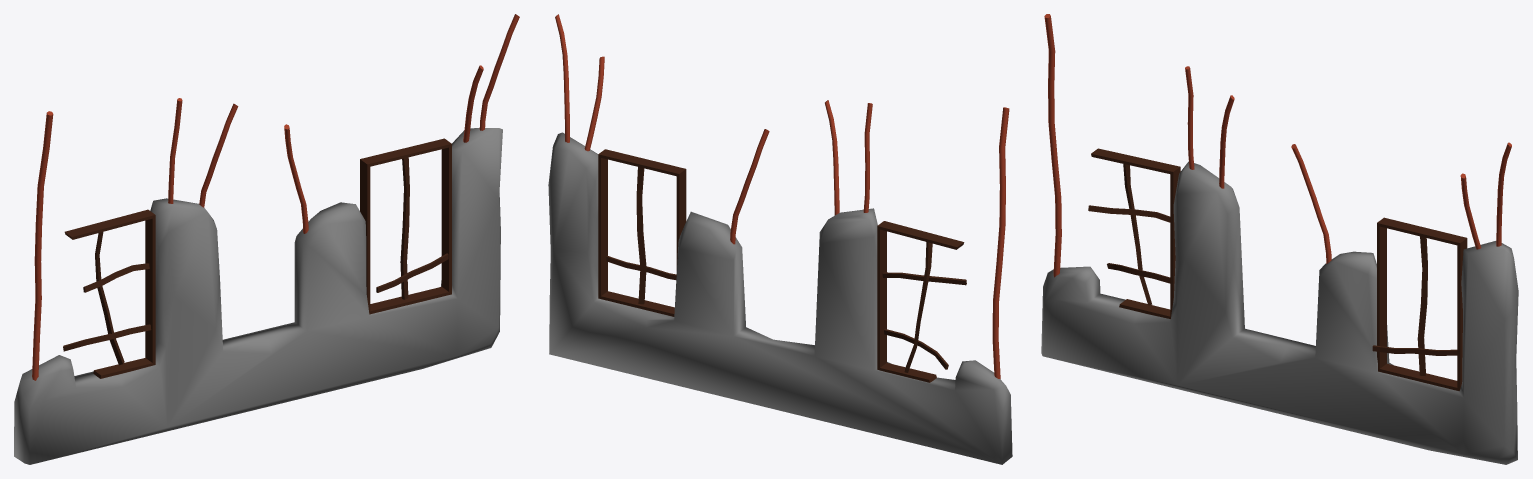
Rendered from SM_wall_windows_broken.fbx.
3 views of the same model, side by side, from view 1: azimuth 30°, elevation 25°; view 2: azimuth 150°, elevation 25°; view 3: azimuth 330°, elevation 25° (orthographic). The views are drawn at different scales.
Parts seen in each view (by area): view 1: Object020; view 2: Object020; view 3: Object020.
Part boxes in pixels (x1,y1,x2,y2): Object020: (14,14,519,464); Object020: (548,14,1012,464); Object020: (1041,14,1518,464).
Bounding box in the file's own units: 201 × 140 × 22.12.
